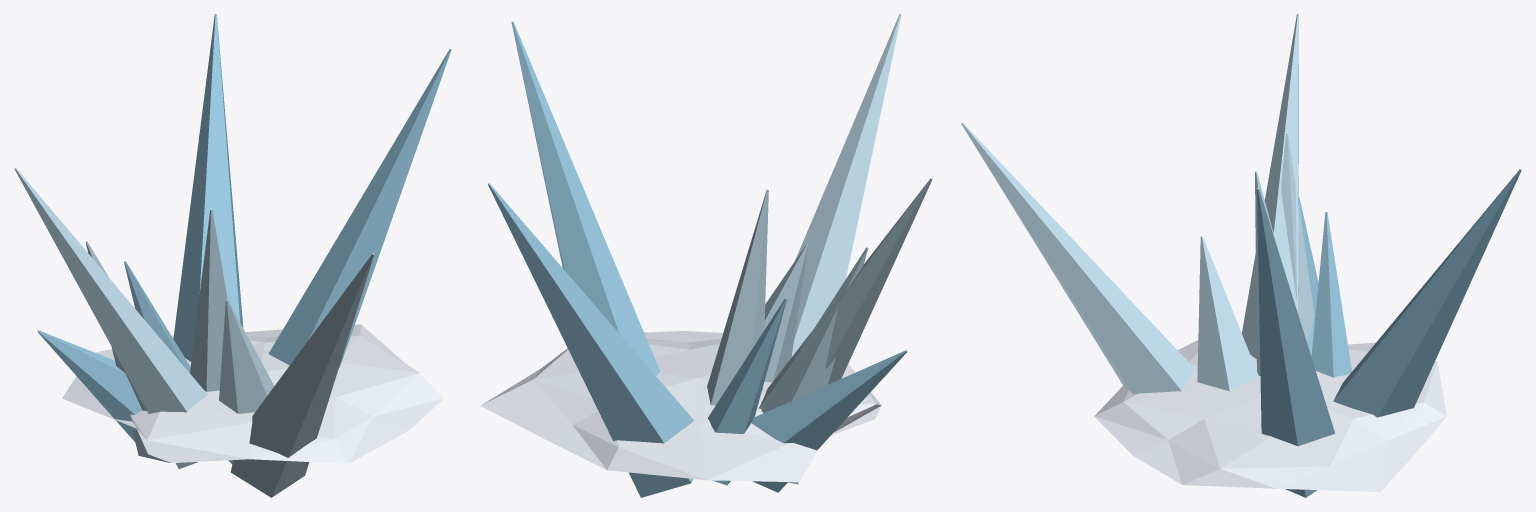
File: TU_Rock_IceShards.obj
3 views of the same model, side by side, from view 1: azimuth 30°, elevation 25°; view 2: azimuth 150°, elevation 25°; view 3: azimuth 270°, elevation 25° (orthographic). The views are drawn at different scales.
Parts seen in each view (by area): view 1: base_snow, shard_4, shard_3, shard_1, shard_8, shard_0, shard_6, shard_5, shard_7, shard_2; view 2: base_snow, shard_1, shard_3, shard_4, shard_5, shard_8, shard_0, shard_7, shard_2, shard_6; view 3: base_snow, shard_4, shard_1, shard_3, shard_8, shard_6, shard_7, shard_2, shard_5, shard_0.
Part boxes in pixels (left/top/right/bottom): base_snow: left=62, top=324, right=443, bottom=463; shard_4: left=230, top=253, right=374, bottom=497; shard_3: left=268, top=48, right=451, bottom=367; shard_1: left=173, top=14, right=243, bottom=361; shard_8: left=14, top=168, right=207, bottom=468; shard_0: left=190, top=209, right=227, bottom=391; shard_6: left=219, top=299, right=274, bottom=463; shard_5: left=37, top=330, right=142, bottom=441; shard_7: left=124, top=261, right=190, bottom=372; shard_2: left=85, top=241, right=170, bottom=462; base_snow: left=480, top=331, right=881, bottom=482; shard_1: left=488, top=183, right=693, bottom=497; shard_3: left=511, top=21, right=660, bottom=375; shard_4: left=791, top=14, right=901, bottom=357; shard_5: left=751, top=350, right=907, bottom=492; shard_8: left=759, top=178, right=932, bottom=409; shard_0: left=707, top=189, right=768, bottom=405; shard_7: left=708, top=298, right=786, bottom=485; shard_2: left=761, top=247, right=868, bottom=484; shard_6: left=764, top=244, right=808, bottom=382; base_snow: left=1094, top=340, right=1446, bottom=492; shard_4: left=961, top=123, right=1195, bottom=394; shard_1: left=1333, top=169, right=1521, bottom=417; shard_3: left=1257, top=188, right=1335, bottom=497; shard_8: left=1242, top=14, right=1298, bottom=358; shard_6: left=1197, top=236, right=1259, bottom=391; shard_7: left=1311, top=212, right=1351, bottom=377; shard_2: left=1281, top=134, right=1314, bottom=341; shard_5: left=1298, top=197, right=1318, bottom=355; shard_0: left=1255, top=171, right=1276, bottom=375.
Size of the model in its own units: 8.86 by 7.28 by 10.08.
